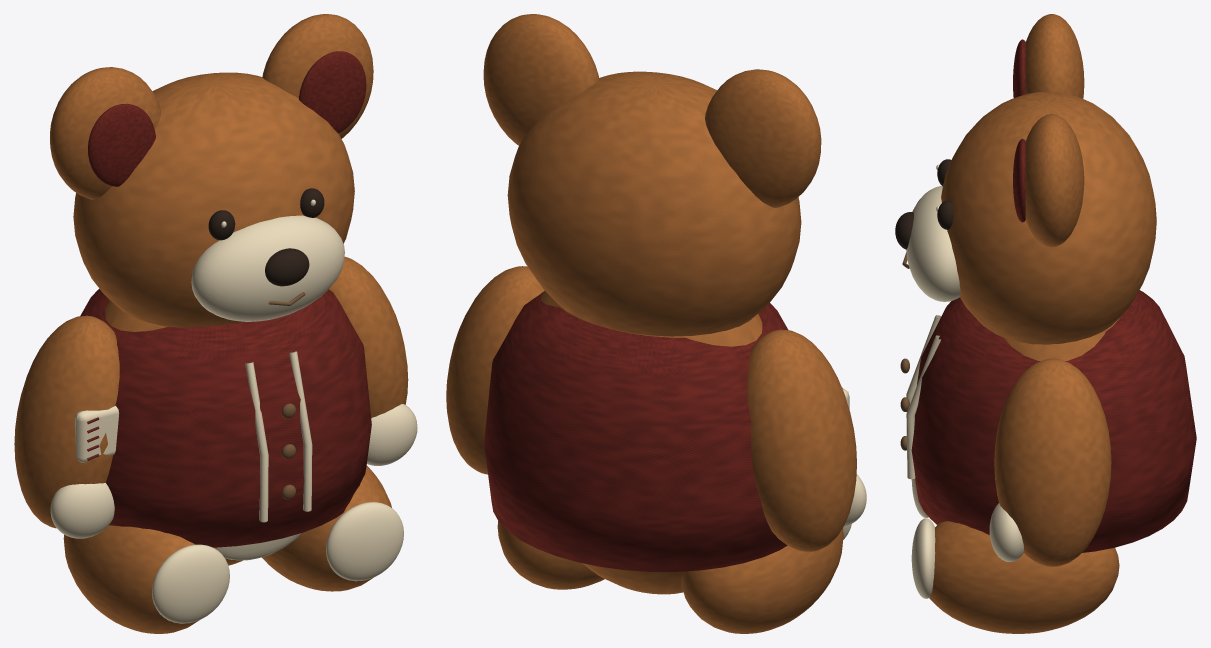
File: bear.glb
The picture shows the model from 3 angles, left to right: view 1: azimuth 30°, elevation 25°; view 2: azimuth 150°, elevation 25°; view 3: azimuth 270°, elevation 25°; orthographic projection. The views are drawn at different scales.
Parts seen in each view (by area): view 1: KnitVest, Head, Arm, Muzzle, Foot, SoftEar, Arm.001, SoftEar.001, Sole, Sole.001, Foot.001, EarFelt (+11 smaller); view 2: KnitVest, Head, Arm, SoftEar, SoftEar.001, Foot, Arm.001, Body, Foot.001; view 3: KnitVest, Head, Arm.001, Foot.001, SoftEar.001, SoftEar, Muzzle, Sole.001, Paw.001, Body, VestTrim.001, EarFelt.001 (+3 smaller).
Boxes of the visible parts, x1,y1,x2,y2 form: KnitVest: (80,289,371,547); Head: (73,72,354,327); Arm: (14,315,119,528); Muzzle: (191,215,344,321); Foot: (63,525,217,633); SoftEar: (50,67,160,199); Arm.001: (329,257,408,417); SoftEar.001: (262,14,373,138); Sole: (152,544,229,623); Sole.001: (326,502,403,581); Foot.001: (262,465,391,591); EarFelt: (88,103,155,186); KnitVest: (484,291,788,571); Head: (507,71,801,336); Arm: (747,329,856,551); SoftEar: (705,69,821,207); SoftEar.001: (483,14,599,145); Foot: (681,528,843,633); Arm.001: (446,266,544,474); Body: (540,291,762,594); Foot.001: (497,521,604,589); KnitVest: (911,290,1196,552); Head: (941,92,1156,344); Arm.001: (994,358,1111,566); Foot.001: (929,521,1119,633); SoftEar.001: (1025,114,1084,247); SoftEar: (1025,14,1084,98); Muzzle: (906,186,960,301); Sole.001: (911,518,935,598); Paw.001: (989,503,1023,561); Body: (1004,318,1119,361); VestTrim.001: (906,335,940,479); EarFelt.001: (1013,138,1025,222).
Size of the model in its own units: 0.7755 by 1.07 by 0.566.
Materials: 6 (2 with a texture image).
